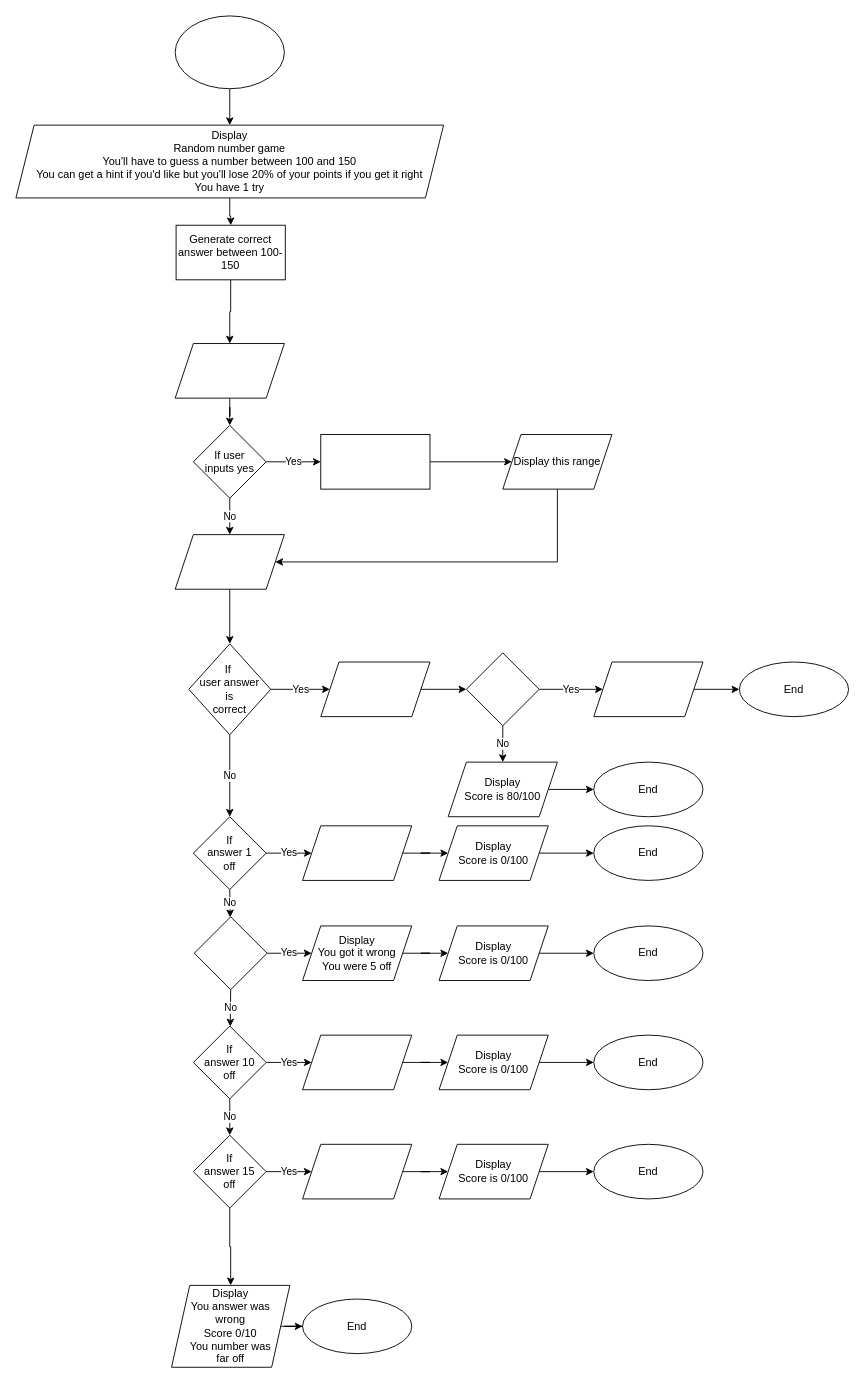
Some shapes in this 865 by 1383 pixel diagram are drawn without their labels. The centre of each missing label's shape, as x and y in pixels:
"Ask user their guess" goes at (229,561).
"Display Score is 100/100" goes at (648,689).
"Display You got it right" goes at (375,689).
"Display You got it wrong You were 1 off" goes at (357,852).
"Display You got it wrong You were 10 off" goes at (357,1062).
"Display You got it wrong You were 15 off" goes at (357,1171).
"generate 2 numbers which is the range that the answer is within" goes at (375,461).
"If answer 5 off" goes at (230,953).
"If hint was chosen" goes at (502,689).
"Start" goes at (229,52).
"User inputs if they want a hint" goes at (229,370).
